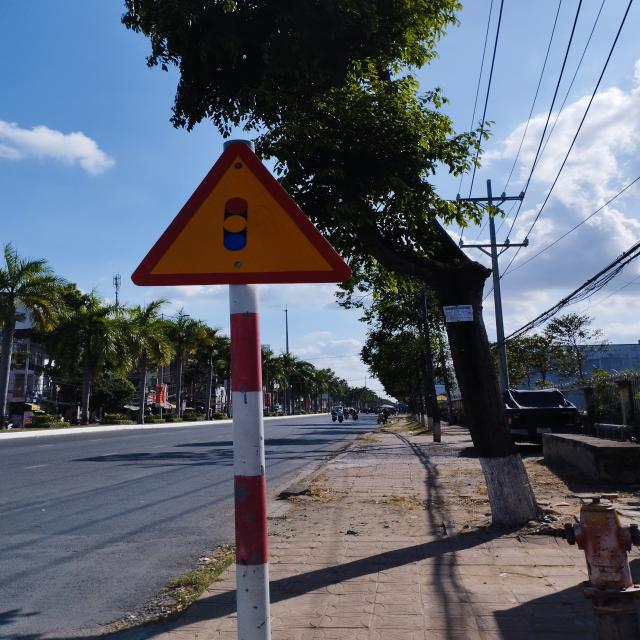Duong_Co_Go_Giam_Toc: (130, 140, 352, 288)
